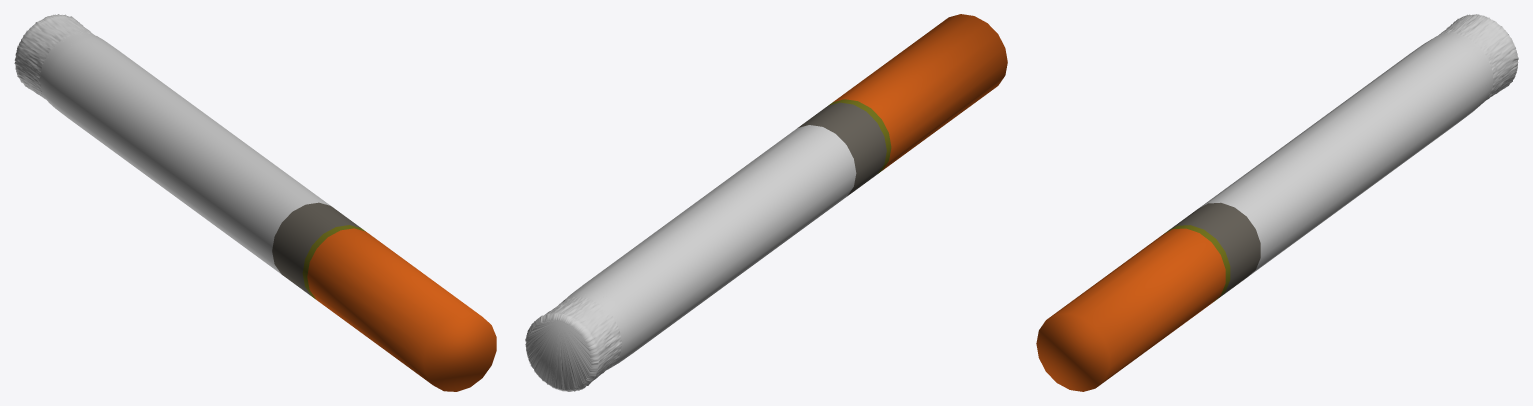
Rendered from cigarette.obj.
3 renders of one model, left to right at view 1: azimuth 30°, elevation 25°; view 2: azimuth 150°, elevation 25°; view 3: azimuth 330°, elevation 25°, orthographic.
Visible parts, largest first — view 1: Cylinder, Cylinder.001; view 2: Cylinder, Cylinder.001; view 3: Cylinder, Cylinder.001.
Part boxes in pixels (x1=…): Cylinder: x1=39, y1=33, x2=496, y2=391; Cylinder.001: x1=14, y1=14, x2=94, y2=100; Cylinder: x1=562, y1=14, x2=1007, y2=367; Cylinder.001: x1=525, y1=294, x2=624, y2=391; Cylinder: x1=1036, y1=33, x2=1492, y2=391; Cylinder.001: x1=1436, y1=14, x2=1518, y2=99.
Size of the model in its own units: 1.22 by 1.21 by 11.81.
